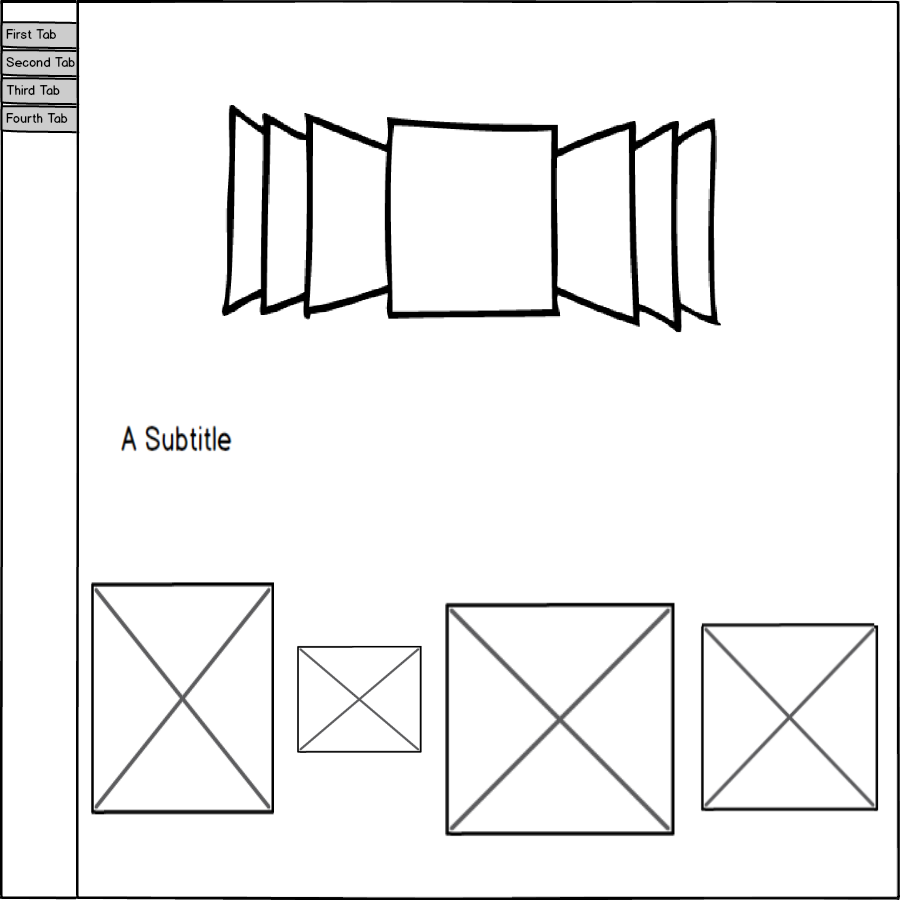h1: (102, 417, 265, 464)
image: (444, 603, 682, 837), (87, 580, 283, 818), (698, 619, 883, 815), (293, 641, 426, 756)
sidebar: (1, 15, 86, 138)
slideshow: (204, 93, 733, 337)
